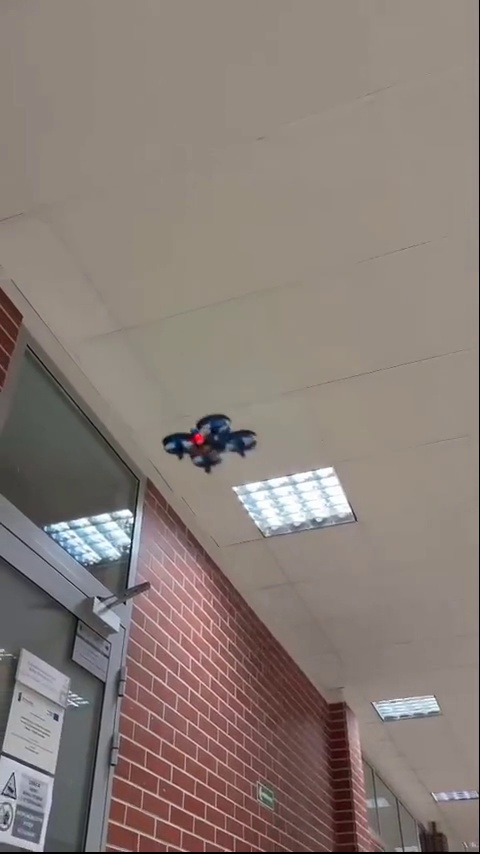drone: (158, 418, 260, 478)
